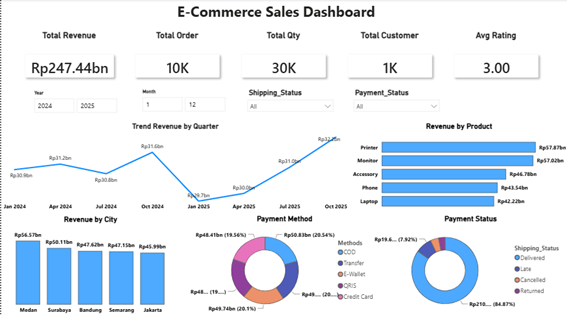

The page's visual inventory and layout, read from the dashboard file:
{"tool":"powerbi","page":{"name":"Page 1","canvas":[1280,720],"ordinal":0},"visuals":[{"type":"cardVisual","title":"Total Order","fields":{"Data":["Count(E-Commerce Query Dashboard.Order_ID)"]},"box":[272,70,250,136],"z":0},{"type":"cardVisual","title":"Total Qty","fields":{"Data":["Sum(E-Commerce Query Dashboard.Qty)"]},"box":[512,70,250,136],"z":1000},{"type":"cardVisual","title":"Total Customer","fields":{"Data":["Count(E-Commerce Query Dashboard.Customer_ID)"]},"box":[752,70,250,136],"z":2000},{"type":"cardVisual","title":"Avg Rating","fields":{"Data":["Avg(E-Commerce Query Dashboard.Rating)"]},"box":[992,70,250,136],"z":3000},{"type":"cardVisual","title":"Total Revenue","fields":{"Data":["Sum(E-Commerce Query Dashboard.Revenue)"]},"box":[24,70,260,136],"z":4000},{"type":"textbox","box":[388,0,466,62],"z":5000},{"type":"slicer","fields":{"Values":["E-Commerce Query Dashboard.Year"]},"box":[62,200,214,76],"z":6000},{"type":"slicer","fields":{"Values":["E-Commerce Query Dashboard.Month"]},"box":[306,198,214,78],"z":7000},{"type":"slicer","fields":{"Values":["E-Commerce Query Dashboard.Payment_Status"]},"box":[786,196,214,80],"z":8000},{"type":"slicer","fields":{"Values":["E-Commerce Query Dashboard.Shipping_Status"]},"box":[546,196,214,80],"z":9000},{"type":"lineChart","title":"Trend Revenue by Quarter","fields":{"Category":["E-Commerce Query Dashboard.Order_Date.Variation.Date Hierarchy.Year","E-Commerce Query Dashboard.Order_Date.Variation.Date Hierarchy.Quarter","E-Commerce Query Dashboard.Order_Date.Variation.Date Hierarchy.Month","E-Commerce Query Dashboard.Order_Date.Variation.Date Hierarchy.Day"],"Y":["Sum(E-Commerce Query Dashboard.Revenue)"]},"box":[0,276.7,786.7,210],"z":10000},{"type":"clusteredBarChart","title":"Revenue by Product","fields":{"Category":["E-Commerce Query Dashboard.Category"],"Y":["Sum(E-Commerce Query Dashboard.Revenue)"]},"box":[786.7,276.7,493.3,210],"z":11000},{"type":"clusteredColumnChart","title":"Revenue by City","fields":{"Category":["E-Commerce Query Dashboard.City"],"Y":["Sum(E-Commerce Query Dashboard.Revenue)"]},"box":[0,486.7,403.3,233.3],"z":11001},{"type":"donutChart","title":"Payment Method","fields":{"Category":["E-Commerce Query Dashboard.Methods"],"Y":["Sum(E-Commerce Query Dashboard.Revenue)"]},"box":[426,486,428,234],"z":11002},{"type":"donutChart","title":"Payment Status","fields":{"Category":["E-Commerce Query Dashboard.Shipping_Status"],"Y":["Sum(E-Commerce Query Dashboard.Revenue)"]},"box":[840,486,440,234],"z":11003}]}

Visuals, with their boxes in screenshot pixels (x1, y1, x2, y2), scaled from the page's 1280x720 canvas onto the 567x315 screenshot:
"Total Order" cardVisual: 120,31,231,90
"Total Qty" cardVisual: 227,31,338,90
"Total Customer" cardVisual: 333,31,444,90
"Avg Rating" cardVisual: 439,31,550,90
"Total Revenue" cardVisual: 11,31,126,90
textbox: 172,0,378,27
slicer - E-Commerce Query Dashboard.Year: 27,88,122,121
slicer - E-Commerce Query Dashboard.Month: 136,87,230,121
slicer - E-Commerce Query Dashboard.Payment_Status: 348,86,443,121
slicer - E-Commerce Query Dashboard.Shipping_Status: 242,86,337,121
"Trend Revenue by Quarter" lineChart: 0,121,348,213
"Revenue by Product" clusteredBarChart: 348,121,566,213
"Revenue by City" clusteredColumnChart: 0,213,179,314
"Payment Method" donutChart: 189,213,378,314
"Payment Status" donutChart: 372,213,566,314
